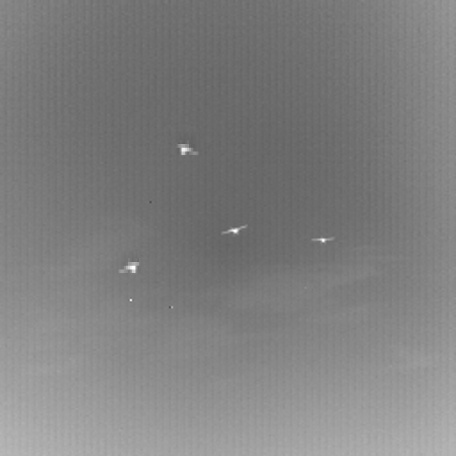plane: (112, 247, 143, 277), (173, 129, 203, 159), (219, 218, 247, 235), (309, 230, 333, 246)
